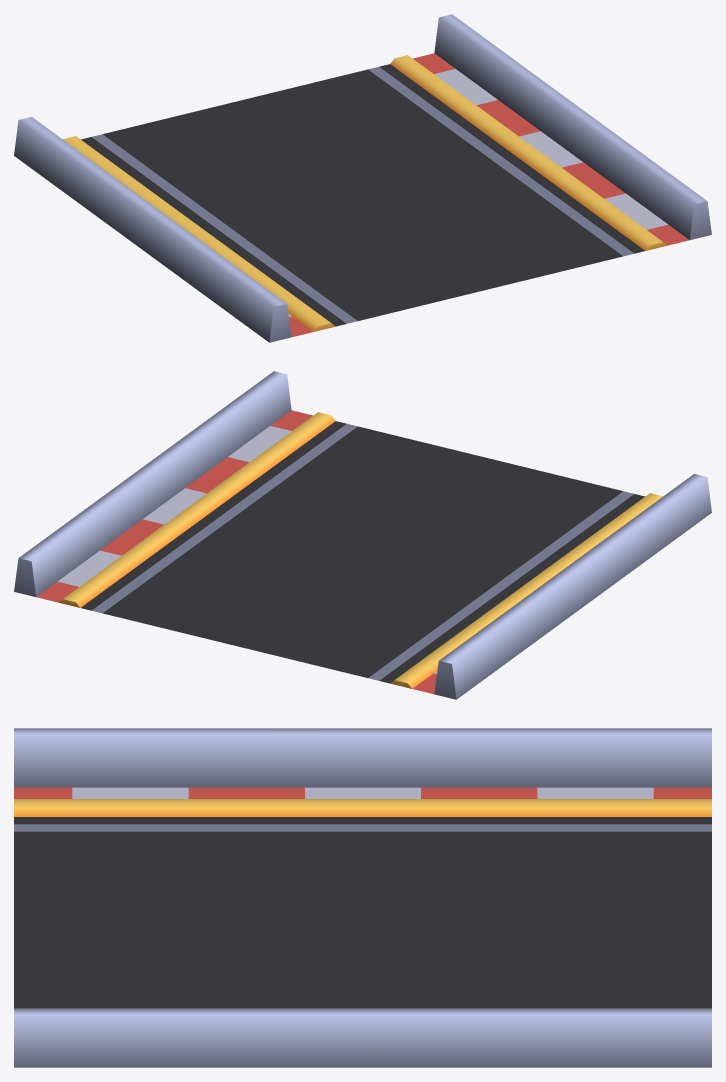
The model's file is track-straight.glb.
The picture shows the model from 3 angles, top to bottom: view 1: azimuth 30°, elevation 25°; view 2: azimuth 150°, elevation 25°; view 3: azimuth 270°, elevation 25°; orthographic projection. The views are drawn at different scales.
Visible parts, largest first — view 1: track-straight; view 2: track-straight; view 3: track-straight.
Boxes of the visible parts, left/top/right/bottom form: track-straight: left=14, top=14, right=711, bottom=342; track-straight: left=14, top=371, right=711, bottom=699; track-straight: left=14, top=728, right=711, bottom=1067.
Size of the model in its own units: 10 by 0.75 by 10.
Materials: 1 (1 with a texture image).
